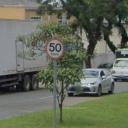speed_limit_50: (45, 38, 65, 60)
